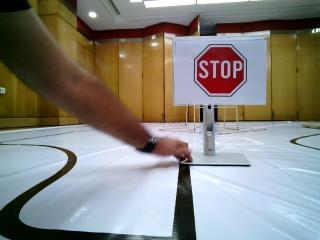stop: (173, 38, 264, 104)
